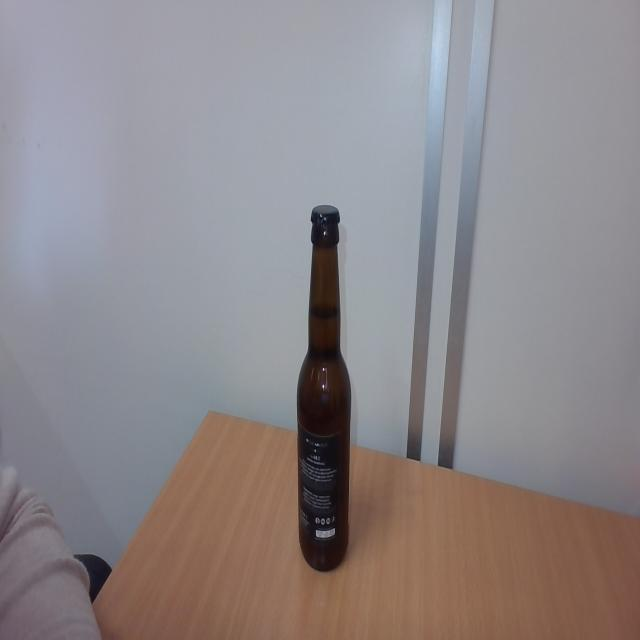Bottle: (296, 227, 352, 574)
Cap: (311, 204, 341, 230)
Label: (299, 417, 351, 544)
